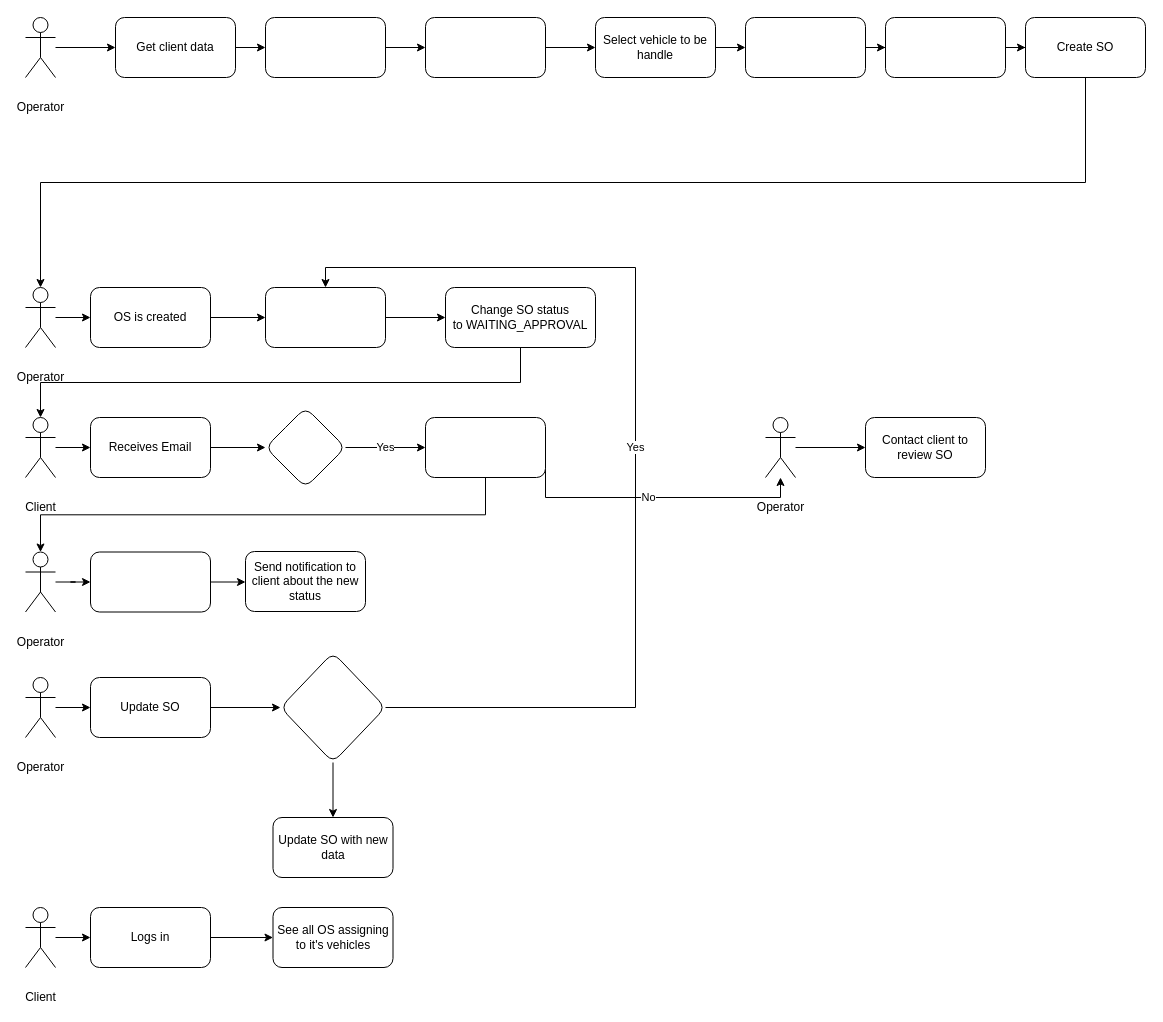
The diagram is 1163 pixels wide and 1022 high, and some of its shapes have lost their labels. The box of each missing label's shape, as (x1, y1, x2, y2) in pixels:
Approves SO: (264, 406, 346, 488)
Change SO status: (90, 551, 210, 612)
Change SO status to IN_DIAGNOSIS: (424, 416, 546, 478)
Open Service Order: (424, 16, 546, 78)
register vehicle: (264, 16, 386, 78)
Select parts from inventory that will be used for each task: (884, 16, 1006, 78)
Select tasks: (744, 16, 866, 78)
Send SO to client to validate and approve: (264, 286, 386, 348)
Total value / tasks / parts are different: (280, 652, 386, 762)
